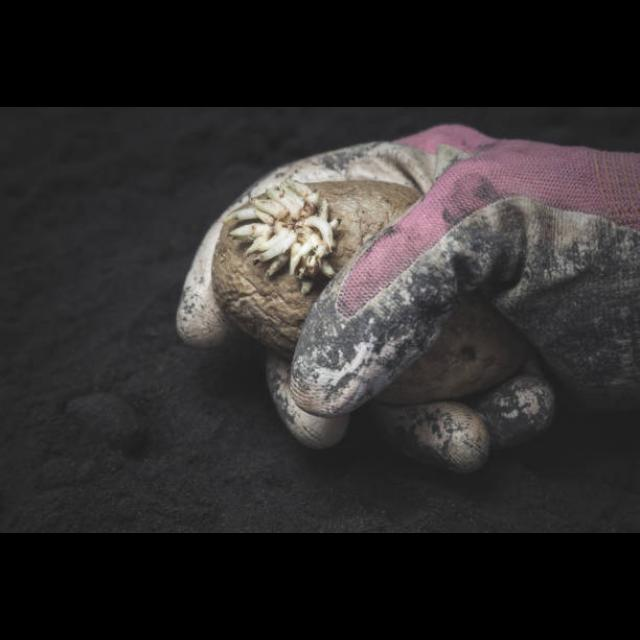Sprouted potato: (206, 172, 538, 412)
